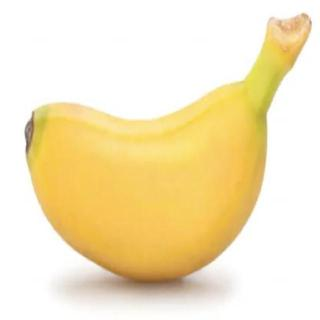banana: (22, 12, 312, 287)
